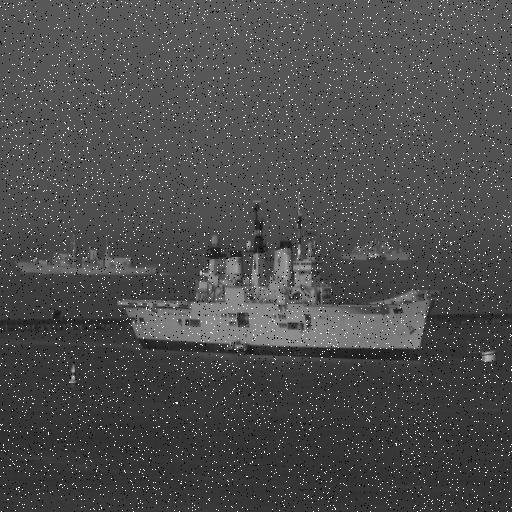Portanaves: (115, 186, 443, 364)
